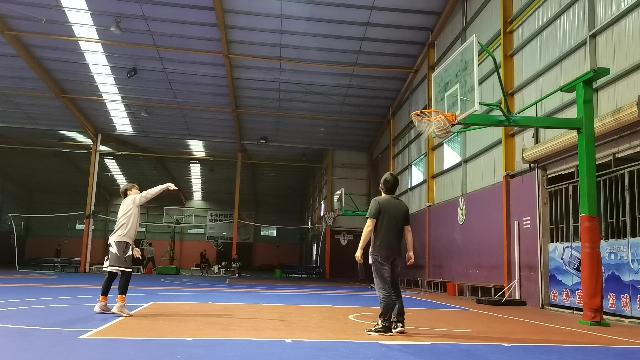basket: (410, 108, 444, 142), (324, 209, 336, 224)
goal: (434, 121, 450, 137)
